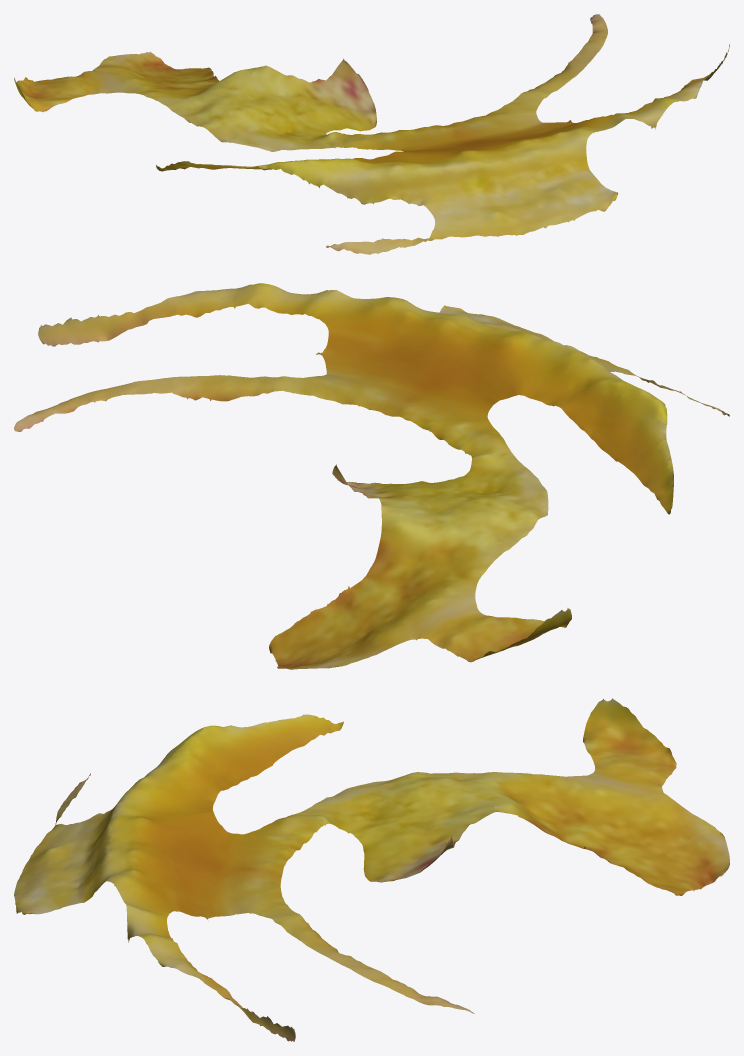
The model's file is Zona_C_Fermentines_isskyros.obj.
3 views of the same model, one above another, from view 1: azimuth 30°, elevation 25°; view 2: azimuth 150°, elevation 25°; view 3: azimuth 270°, elevation 25° (orthographic). The views are drawn at different scales.
Parts seen in each view (by area): view 1: Iliostoma_su_plokštele_nevalyta_su_maceracija_02.001_Iliostoma_s; view 2: Iliostoma_su_plokštele_nevalyta_su_maceracija_02.001_Iliostoma_s; view 3: Iliostoma_su_plokštele_nevalyta_su_maceracija_02.001_Iliostoma_s.
Part boxes in pixels (bbox=[...]): Iliostoma_su_plokštele_nevalyta_su_maceracija_02.001_Iliostoma_s: bbox=[14, 14, 729, 254]; Iliostoma_su_plokštele_nevalyta_su_maceracija_02.001_Iliostoma_s: bbox=[14, 283, 729, 669]; Iliostoma_su_plokštele_nevalyta_su_maceracija_02.001_Iliostoma_s: bbox=[14, 698, 729, 1041].
Bounding box in the file's own units: 0.2687 × 0.0406 × 0.2501.
